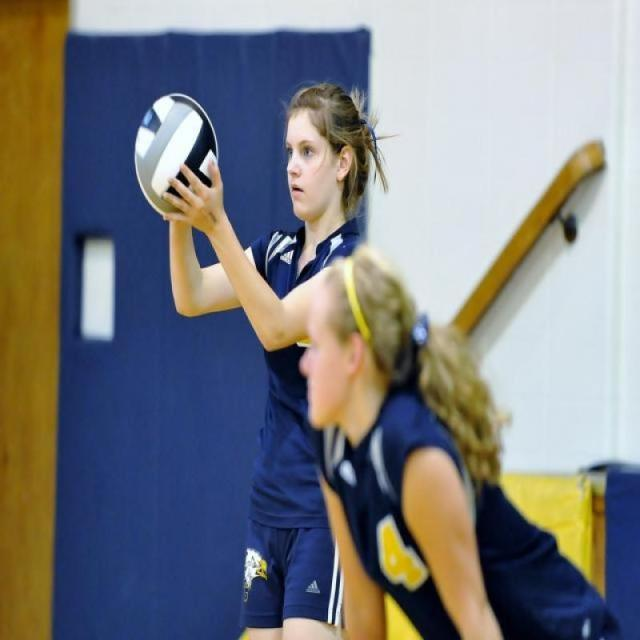volleyball: (133, 92, 219, 216)
